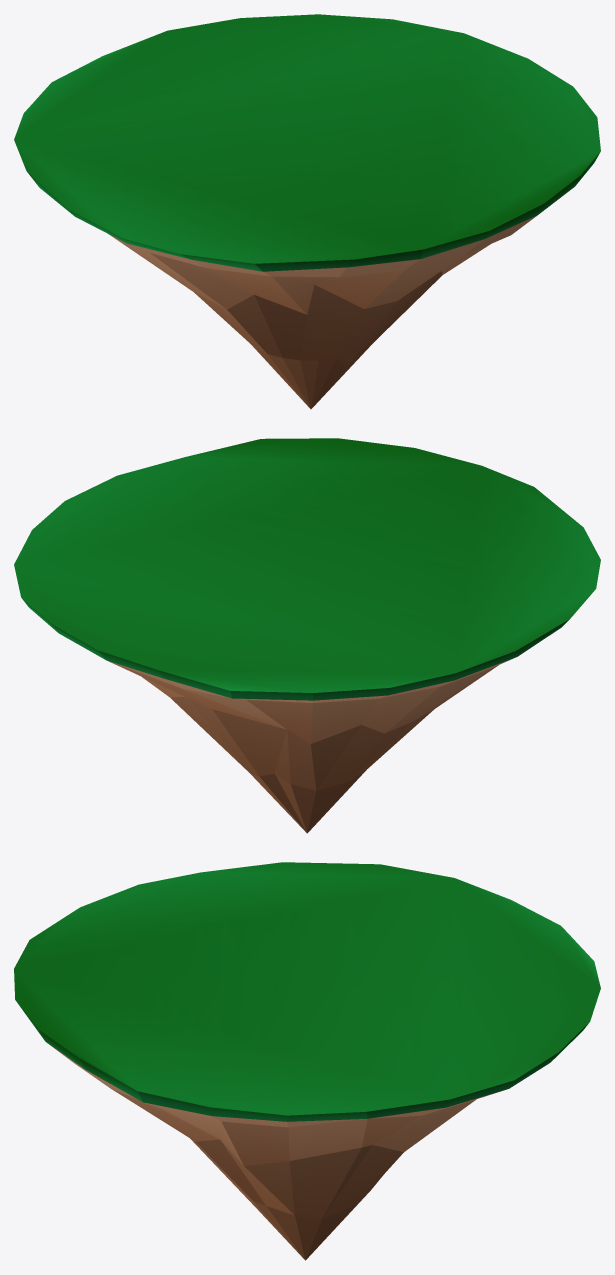
File: islandv3.gltf
3 renders of one model, top to bottom at view 1: azimuth 30°, elevation 25°; view 2: azimuth 150°, elevation 25°; view 3: azimuth 270°, elevation 25°, orthographic.
Parts seen in each view (by area): view 1: Cylinder; view 2: Cylinder; view 3: Cylinder.
Part boxes in pixels (<box>): Cylinder: <box>14,14,600,409</box>; Cylinder: <box>14,438,600,833</box>; Cylinder: <box>14,862,600,1260</box>.
Bounding box in the file's own units: 18.27 × 9.56 × 18.12.
1 material, 1 textured.
